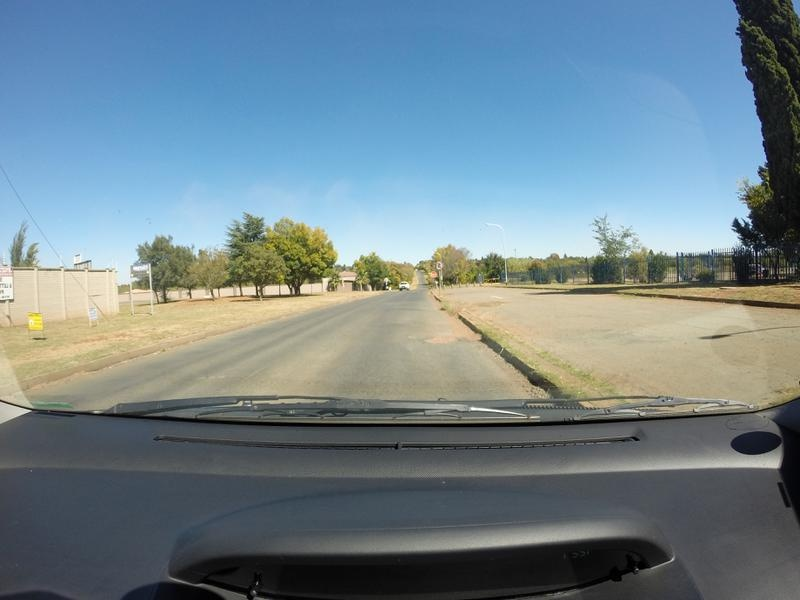pothole: (413, 327, 476, 347)
